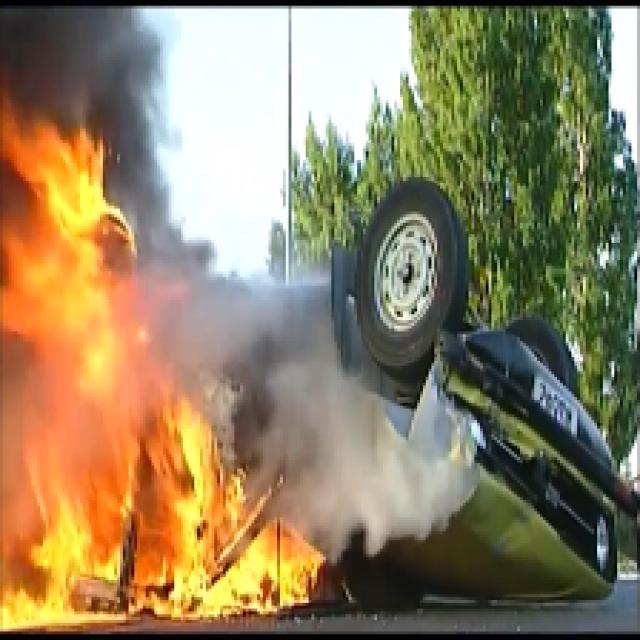fire: (0, 156, 118, 622), (118, 436, 230, 605)
smoke: (270, 376, 425, 533), (21, 14, 151, 126), (162, 280, 312, 375)
